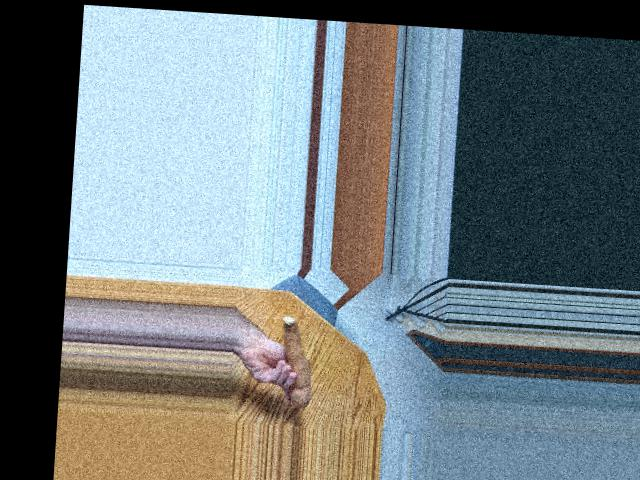sweet_potato: (274, 319, 319, 404)
